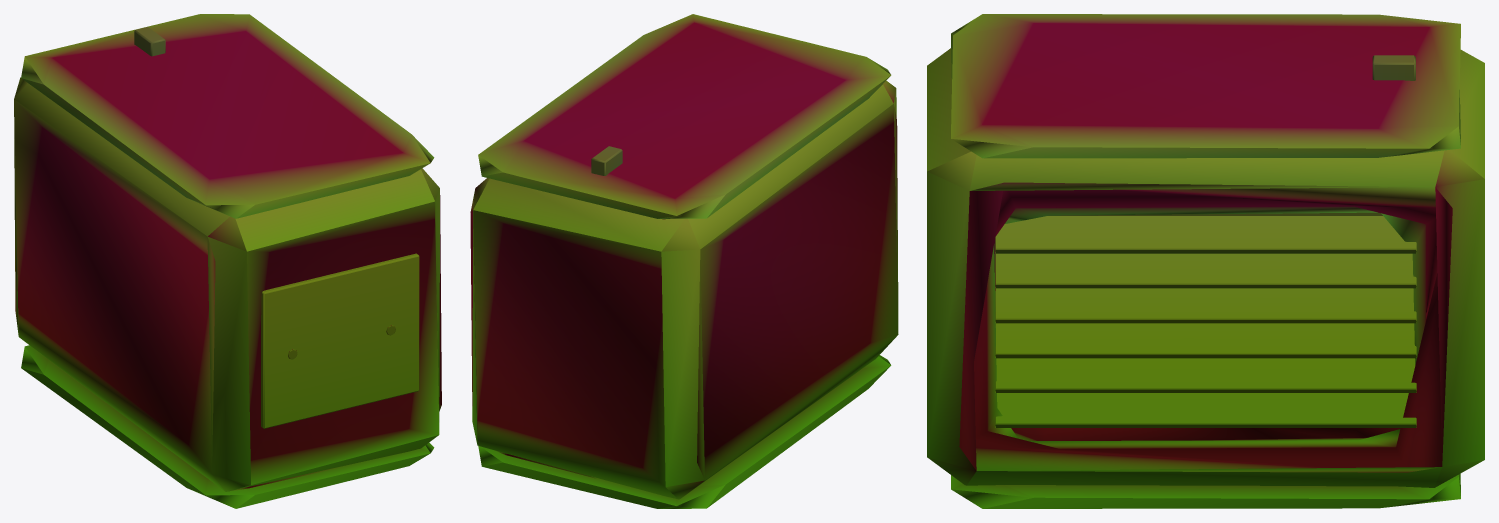
Rendered from RCLModule_command_relay_cyber_nanoweave_sponsons.fbx.
3 renders of one model, left to right at view 1: azimuth 30°, elevation 25°; view 2: azimuth 150°, elevation 25°; view 3: azimuth 270°, elevation 25°, orthographic. The views are drawn at different scales.
Parts seen in each view (by area): view 1: RCLModule_command_relay_cyber_nanoweave_sponsons_Batch_RCLMo (×2); view 2: RCLModule_command_relay_cyber_nanoweave_sponsons_Batch_RCLMo (×2); view 3: RCLModule_command_relay_cyber_nanoweave_sponsons_Batch_RCLMo (×2).
Boxes of the visible parts, box(x1,y1,x2,y2) form: RCLModule_command_relay_cyber_nanoweave_sponsons_Batch_RCLMo (×2): box(14, 14, 441, 508); RCLModule_command_relay_cyber_nanoweave_sponsons_Batch_RCLMo (×2): box(470, 14, 898, 508); RCLModule_command_relay_cyber_nanoweave_sponsons_Batch_RCLMo (×2): box(927, 14, 1484, 508).
Size of the model in its own units: 37.19 by 51.5 by 64.33.
